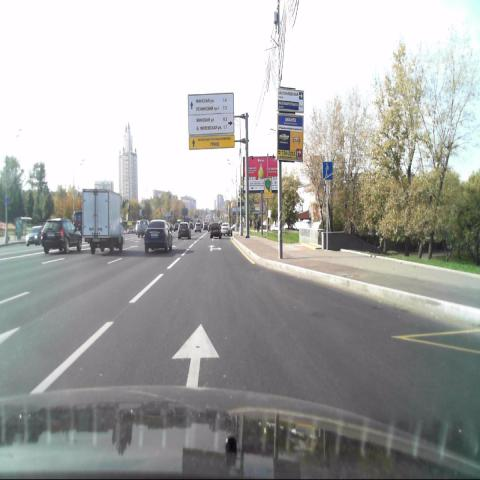6_6: (322, 161, 333, 180)
